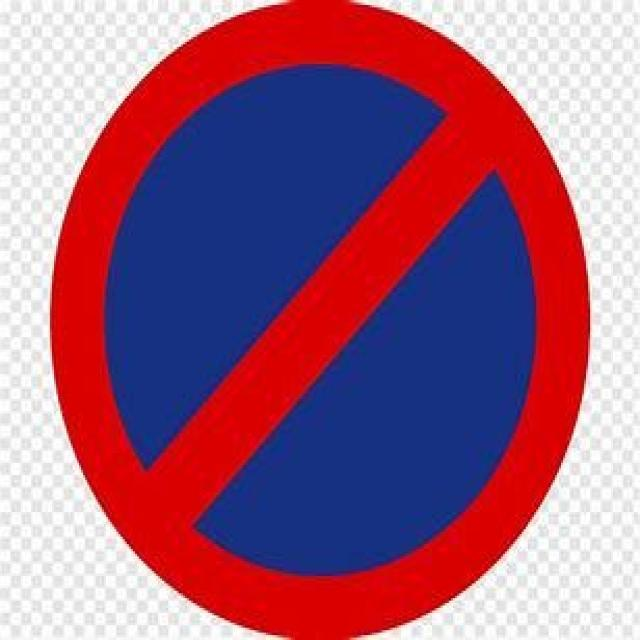no parking: (51, 17, 592, 626)
